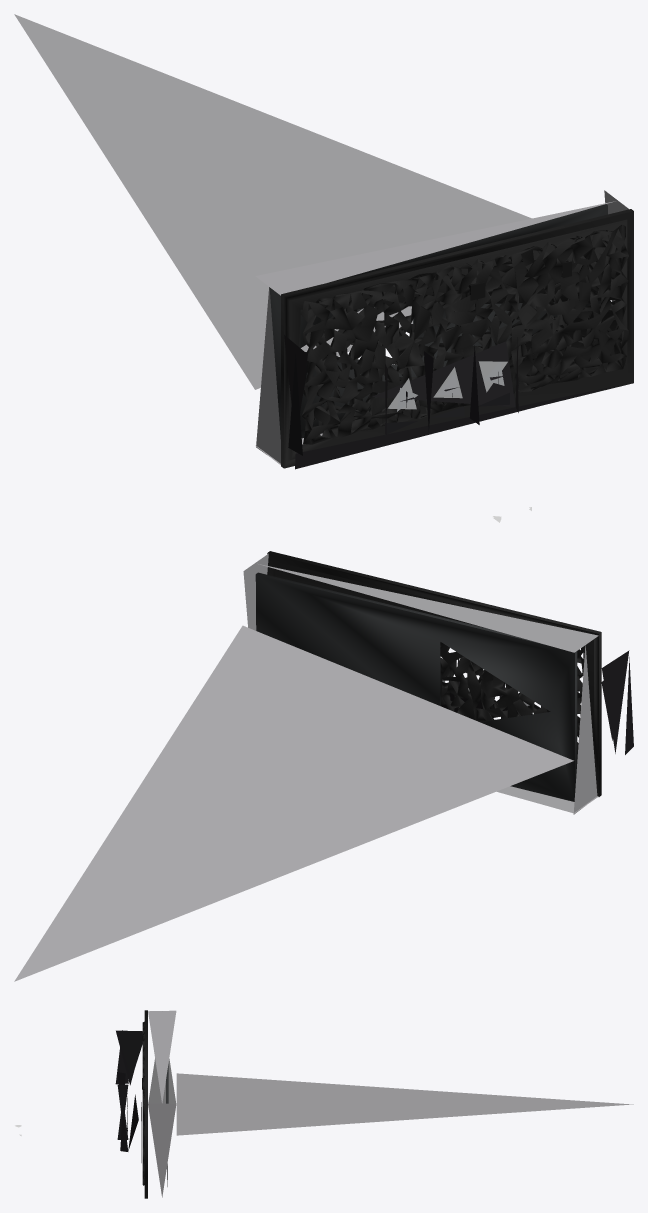
File: PWR-C5-715WDC.far.glb
The picture shows the model from 3 angles, top to bottom: view 1: azimuth 30°, elevation 25°; view 2: azimuth 150°, elevation 25°; view 3: azimuth 270°, elevation 25°; orthographic projection. The views are drawn at different scales.
Parts seen in each view (by area): view 1: Body_far; view 2: Body_far; view 3: Body_far.
Part boxes in pixels (x1=…): Body_far: x1=14, y1=14, x2=633, y2=522; Body_far: x1=14, y1=551, x2=633, y2=981; Body_far: x1=15, y1=1010, x2=633, y2=1198.
Bounding box in the file's own units: 0.0864 × 0.0397 × 0.2345.
2 materials, 1 textured.
